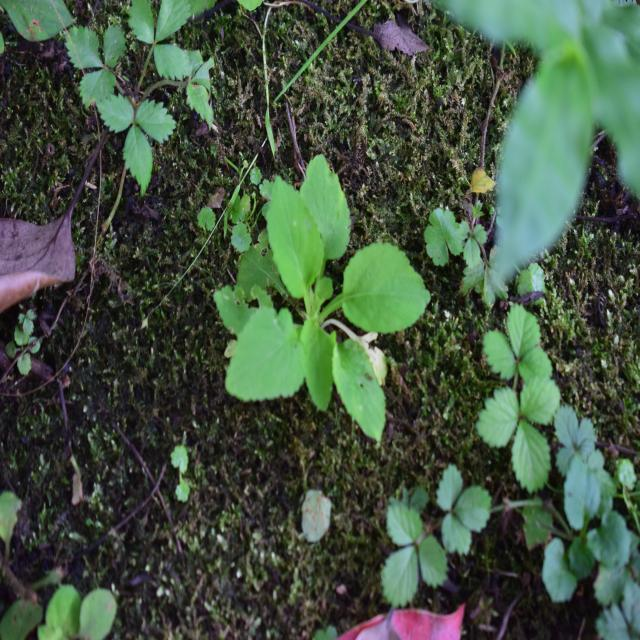Viola: (218, 136, 420, 441)
